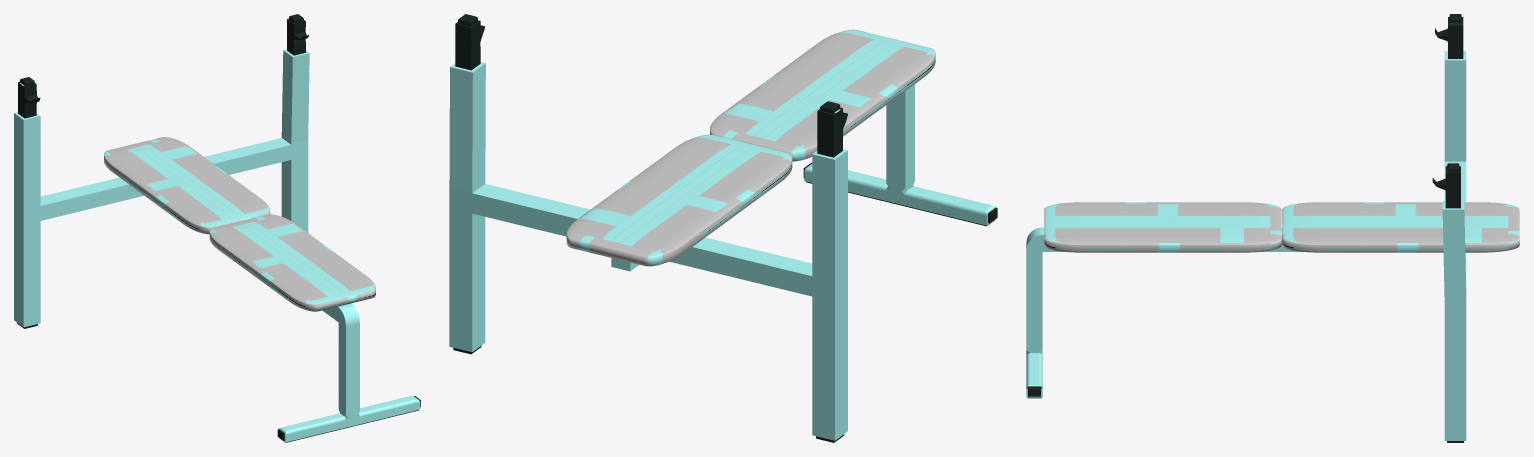
Rendered from benk.fbx.
3 views of the same model, side by side, from view 1: azimuth 30°, elevation 25°; view 2: azimuth 150°, elevation 25°; view 3: azimuth 270°, elevation 25° (orthographic). The views are drawn at different scales.
Visible parts, largest first — view 1: Cube, Cube.002, Cube.001; view 2: Cube, Cube.001, Cube.002; view 3: Cube, Cube.002, Cube.001.
Part boxes in pixels (x1,y1,x2,y2): Cube: [14, 14, 420, 442]; Cube.002: [209, 214, 375, 311]; Cube.001: [104, 137, 270, 234]; Cube: [449, 14, 997, 442]; Cube.001: [566, 134, 792, 266]; Cube.002: [710, 29, 935, 161]; Cube: [1026, 14, 1466, 442]; Cube.002: [1044, 202, 1281, 252]; Cube.001: [1282, 202, 1519, 252].
Bounding box in the file's own units: 1350 × 1111 × 1796.
Materials: 3 (3 with a texture image).
